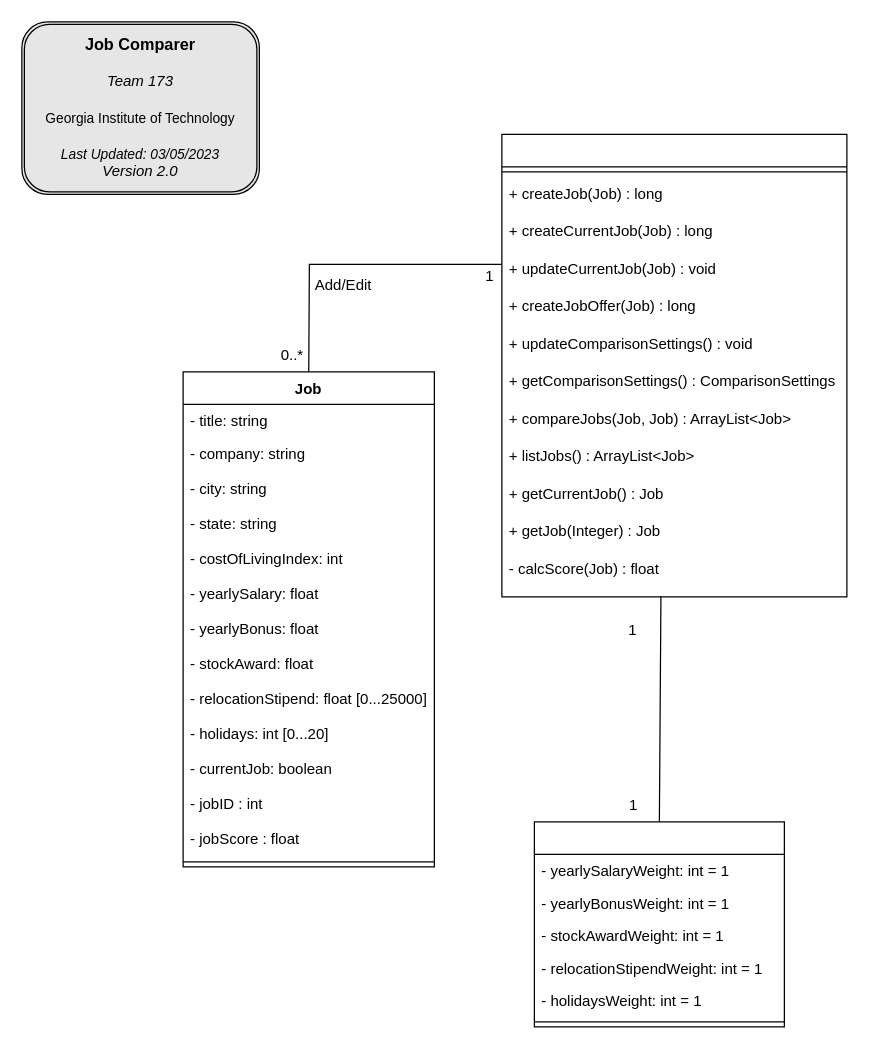
This 869x1049 diagram has some shape labels left out. The box of each missing label's shape, as (x1, y1, x2, y2) in pixels:
ComparisonSettings: (533, 821, 784, 1027)
SystemMgr: (501, 133, 847, 597)
